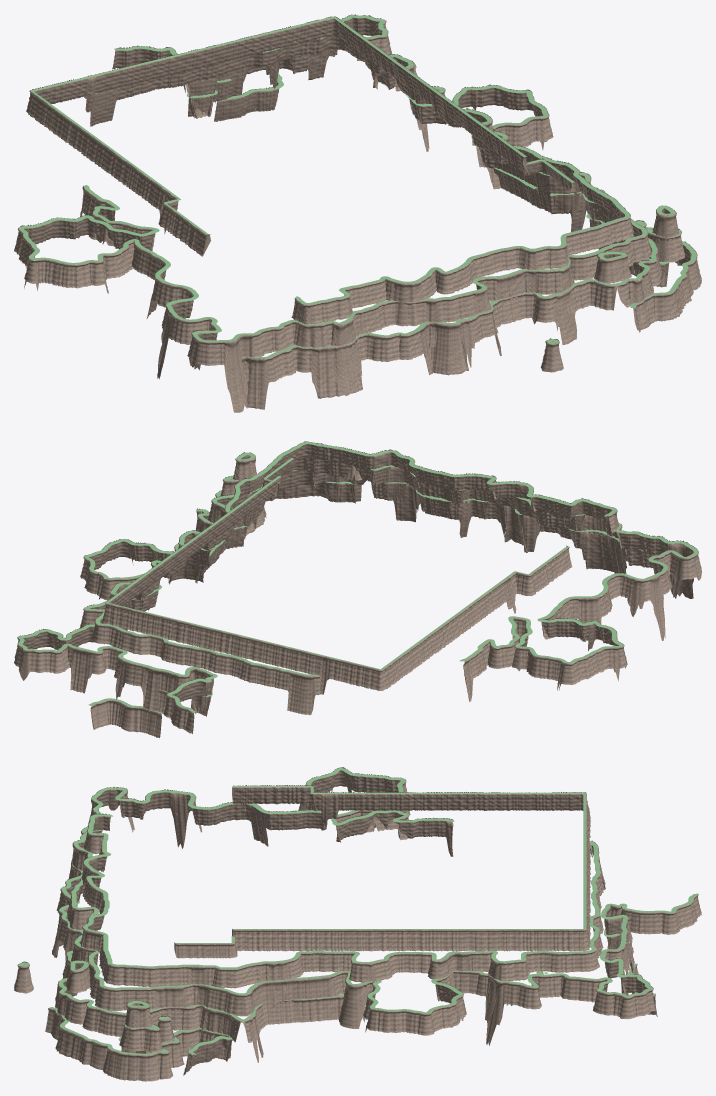
Rendered from CliffWall_palace_mesa_e.glb.
3 views of the same model, one above another, from view 1: azimuth 30°, elevation 25°; view 2: azimuth 150°, elevation 25°; view 3: azimuth 270°, elevation 25° (orthographic). The views are drawn at different scales.
Parts seen in each view (by area): view 1: CliffWall_palace_mesa_e-rock3, CliffWall_palace_mesa_e-rock2, CliffWall_palace_mesa_e-rock10, CliffWall_palace_mesa_e-rock0, CliffWall_palace_mesa_e-lip3, CliffWall_palace_mesa_e-rock16, CliffWall_palace_mesa_e-lip0, CliffWall_palace_mesa_e-lip2, CliffWall_palace_mesa_e-rock15, CliffWall_palace_mesa_e-lip10, CliffWall_palace_mesa_e-rock6, CliffWall_palace_mesa_e-rock7; view 2: CliffWall_palace_mesa_e-rock3, CliffWall_palace_mesa_e-rock0, CliffWall_palace_mesa_e-rock2, CliffWall_palace_mesa_e-rock10, CliffWall_palace_mesa_e-lip3, CliffWall_palace_mesa_e-lip2, CliffWall_palace_mesa_e-rock15, CliffWall_palace_mesa_e-lip0, CliffWall_palace_mesa_e-rock16, CliffWall_palace_mesa_e-rock6; view 3: CliffWall_palace_mesa_e-rock3, CliffWall_palace_mesa_e-rock0, CliffWall_palace_mesa_e-rock2, CliffWall_palace_mesa_e-lip3, CliffWall_palace_mesa_e-rock10, CliffWall_palace_mesa_e-rock16, CliffWall_palace_mesa_e-lip2, CliffWall_palace_mesa_e-lip0, CliffWall_palace_mesa_e-rock9, CliffWall_palace_mesa_e-rock1, CliffWall_palace_mesa_e-rock14, CliffWall_palace_mesa_e-lip10 (+3 smaller).
Part boxes in pixels (bbox=[...]): CliffWall_palace_mesa_e-rock3: bbox=[14, 14, 651, 412]; CliffWall_palace_mesa_e-rock2: bbox=[90, 36, 633, 326]; CliffWall_palace_mesa_e-rock10: bbox=[242, 189, 662, 409]; CliffWall_palace_mesa_e-rock0: bbox=[26, 16, 529, 256]; CliffWall_palace_mesa_e-lip3: bbox=[19, 15, 647, 342]; CliffWall_palace_mesa_e-rock16: bbox=[599, 229, 701, 332]; CliffWall_palace_mesa_e-lip0: bbox=[31, 16, 526, 234]; CliffWall_palace_mesa_e-lip2: bbox=[94, 36, 630, 304]; CliffWall_palace_mesa_e-rock15: bbox=[214, 81, 279, 121]; CliffWall_palace_mesa_e-lip10: bbox=[241, 190, 657, 358]; CliffWall_palace_mesa_e-rock6: bbox=[652, 205, 683, 286]; CliffWall_palace_mesa_e-rock7: bbox=[594, 251, 631, 283]; CliffWall_palace_mesa_e-rock3: bbox=[14, 457, 701, 733]; CliffWall_palace_mesa_e-rock0: bbox=[102, 476, 572, 694]; CliffWall_palace_mesa_e-rock2: bbox=[91, 441, 621, 715]; CliffWall_palace_mesa_e-rock10: bbox=[195, 470, 675, 598]; CliffWall_palace_mesa_e-lip3: bbox=[18, 457, 698, 712]; CliffWall_palace_mesa_e-lip2: bbox=[95, 442, 616, 676]; CliffWall_palace_mesa_e-rock15: bbox=[90, 699, 161, 737]; CliffWall_palace_mesa_e-lip0: bbox=[106, 476, 568, 669]; CliffWall_palace_mesa_e-rock16: bbox=[196, 482, 361, 553]; CliffWall_palace_mesa_e-rock6: bbox=[233, 452, 266, 517]; CliffWall_palace_mesa_e-rock3: bbox=[67, 767, 701, 1045]; CliffWall_palace_mesa_e-rock0: bbox=[232, 785, 592, 951]; CliffWall_palace_mesa_e-rock2: bbox=[78, 813, 605, 1020]; CliffWall_palace_mesa_e-lip3: bbox=[71, 768, 697, 1013]; CliffWall_palace_mesa_e-rock10: bbox=[51, 825, 265, 1062]; CliffWall_palace_mesa_e-rock16: bbox=[45, 1008, 231, 1081]; CliffWall_palace_mesa_e-lip2: bbox=[83, 814, 600, 969]; CliffWall_palace_mesa_e-lip0: bbox=[232, 786, 586, 929]; CliffWall_palace_mesa_e-rock9: bbox=[280, 996, 343, 1022]; CliffWall_palace_mesa_e-rock1: bbox=[174, 937, 237, 958]; CliffWall_palace_mesa_e-rock14: bbox=[121, 1018, 162, 1053]; CliffWall_palace_mesa_e-lip10: bbox=[58, 826, 261, 1021].
Size of the model in its own units: 4581 by 843 by 5272.
Materials: 4 (1 with a texture image).
